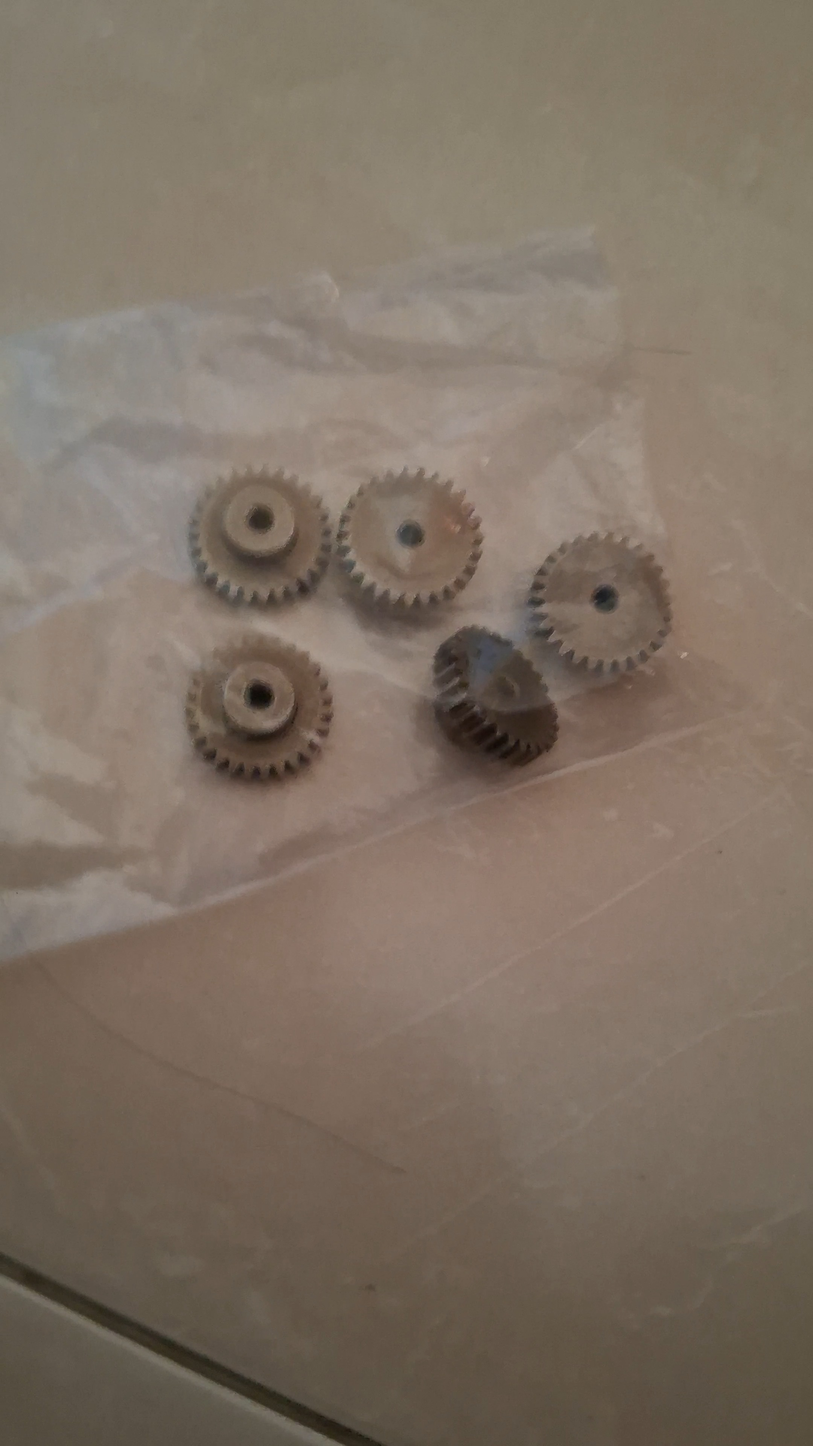spur gear: (186, 635, 332, 778), (336, 470, 483, 607), (530, 533, 671, 673), (189, 469, 330, 604), (434, 626, 558, 764)
